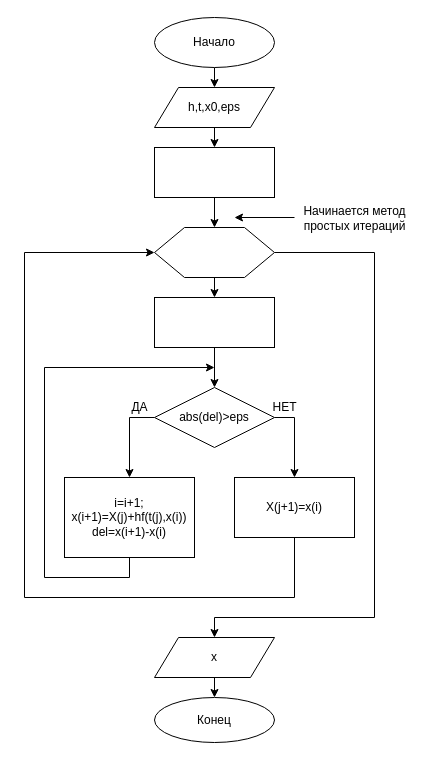
The diagram is 432 pixels wide and 760 high, and some of its shapes have lost their labels. The centre of each missing label's shape, as x and y in pixels:
j=2:n-1: point 214,252
x=[X(j)] del=1 i=0: point 214,322
X=[X0 X1...] n=length(t): point 214,172
